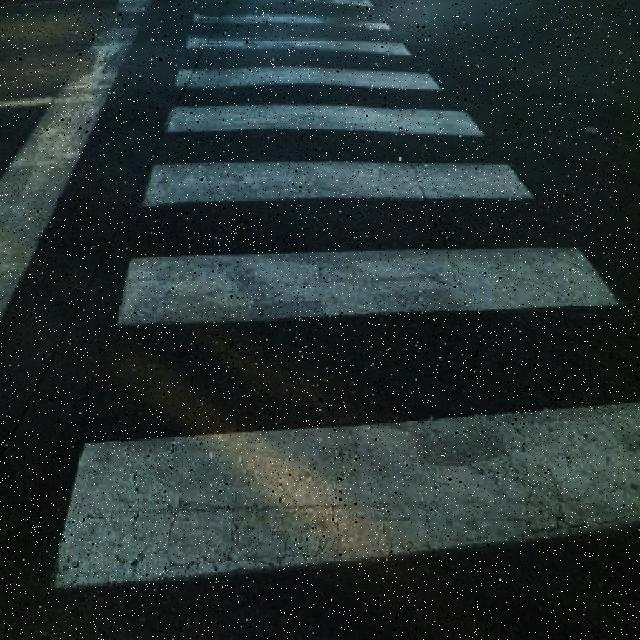Pedestrian crosswalk: (37, 0, 640, 609)
